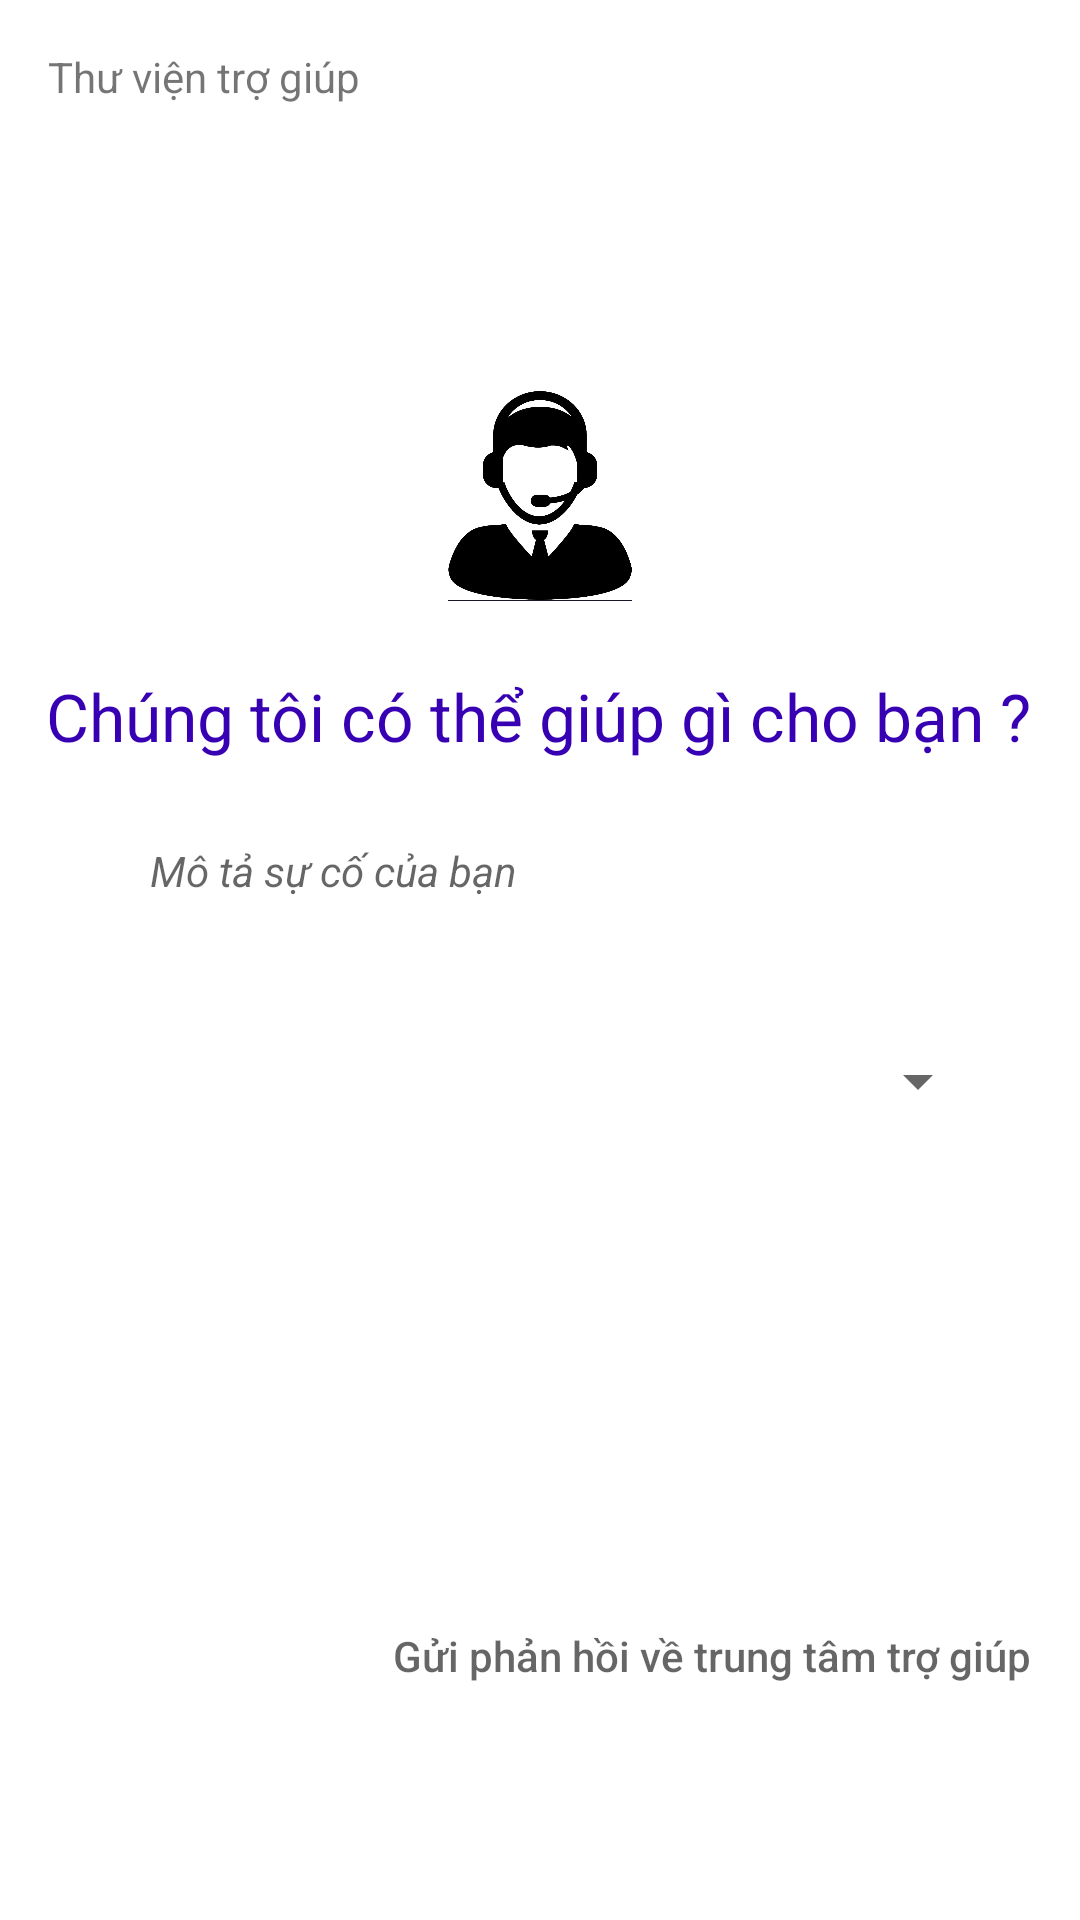

Locate icon controls on the screen. Image size 1080px×1920px, boxes as (x1, y1, x2, y2).
support: (448, 391, 632, 601)
